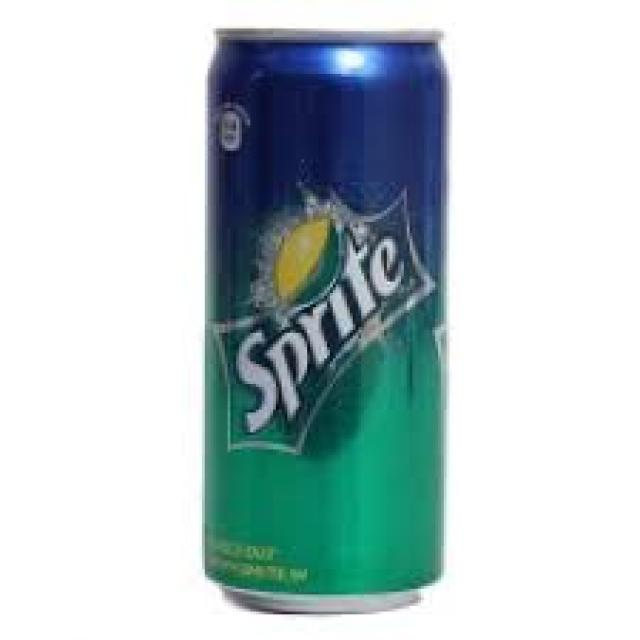aluminum_can: (205, 31, 444, 613)
